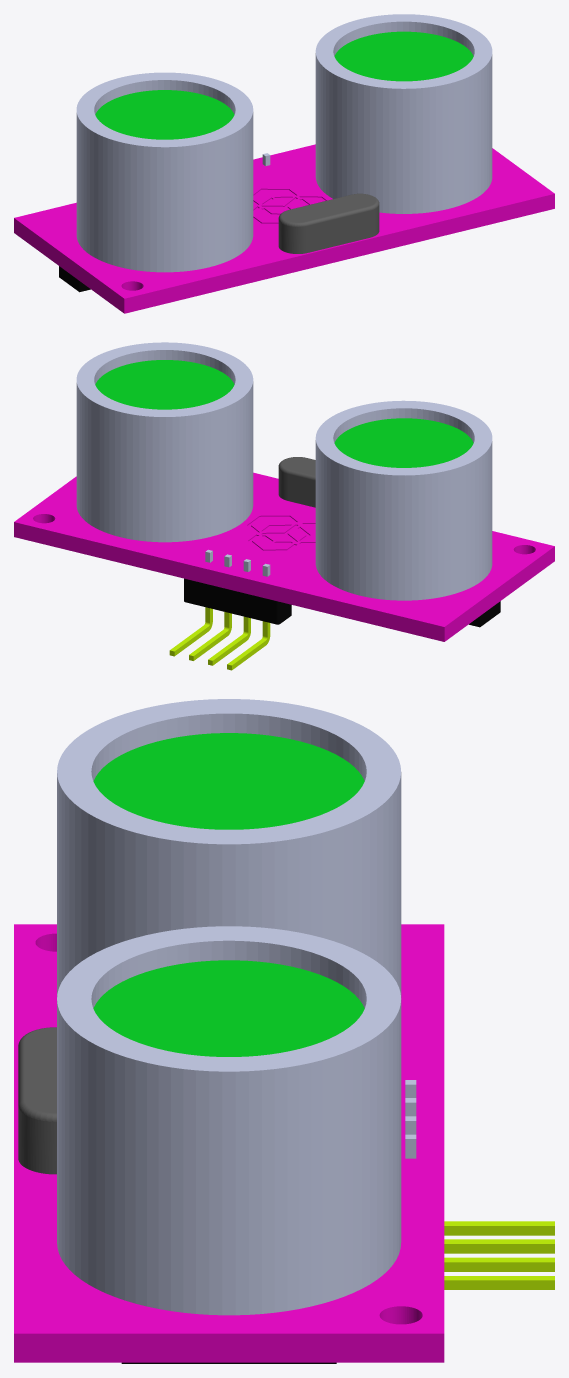
The model's file is sonar.dae.
3 renders of one model, top to bottom at view 1: azimuth 30°, elevation 25°; view 2: azimuth 150°, elevation 25°; view 3: azimuth 270°, elevation 25°, orthographic. The views are drawn at different scales.
Parts seen in each view (by area): view 1: 5b19146848cad60eac9978df (×6); view 2: 5b19146848cad60eac9978df (×11); view 3: 5b19146848cad60eac9978df (×10).
Part boxes in pixels (<box>): 5b19146848cad60eac9978df (×6): <box>14,14,554,313</box>; 5b19146848cad60eac9978df (×11): <box>14,342,554,670</box>; 5b19146848cad60eac9978df (×10): <box>14,699,554,1362</box>.
Size of the model in its own units: 0.045 by 0.0252 by 0.0193.
